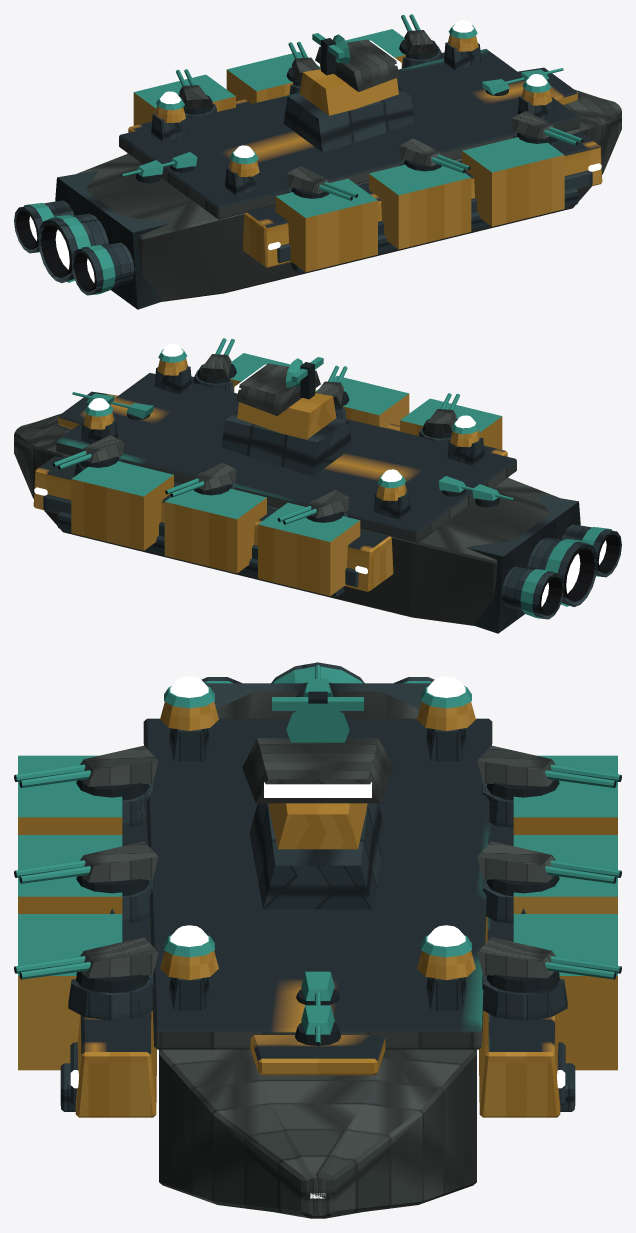
File: cruiser.glb
The picture shows the model from 3 angles, top to bottom: view 1: azimuth 30°, elevation 25°; view 2: azimuth 150°, elevation 25°; view 3: azimuth 270°, elevation 25°; orthographic projection. The views are drawn at different scales.
Parts seen in each view (by area): view 1: hull_body, engine_block, sensor_tower, weapon_turrets, shield_pylons; view 2: hull_body, engine_block, sensor_tower, weapon_turrets, shield_pylons; view 3: hull_body, weapon_turrets, sensor_tower, shield_pylons, engine_block.
Boxes of the visible parts, x1=… form: hull_body: x1=77, y1=29, x2=621, y2=301; engine_block: x1=14, y1=170, x2=170, y2=309; sensor_tower: x1=283, y1=33, x2=414, y2=152; weapon_turrets: x1=121, y1=14, x2=583, y2=200; shield_pylons: x1=151, y1=20, x2=554, y2=195; hull_body: x1=14, y1=353, x2=558, y2=625; engine_block: x1=465, y1=494, x2=621, y2=633; sensor_tower: x1=221, y1=357, x2=352, y2=476; weapon_turrets: x1=52, y1=338, x2=514, y2=524; shield_pylons: x1=81, y1=344, x2=484, y2=519; hull_body: x1=18, y1=691, x2=617, y2=1218; weapon_turrets: x1=14, y1=665, x2=621, y2=1045; sensor_tower: x1=242, y1=691, x2=393, y2=909; shield_pylons: x1=160, y1=676, x2=475, y2=1010; engine_block: x1=201, y1=662, x2=434, y2=709.
Bounding box in the file's own units: 42 × 13.48 × 22.54.
1 material, 1 textured.
